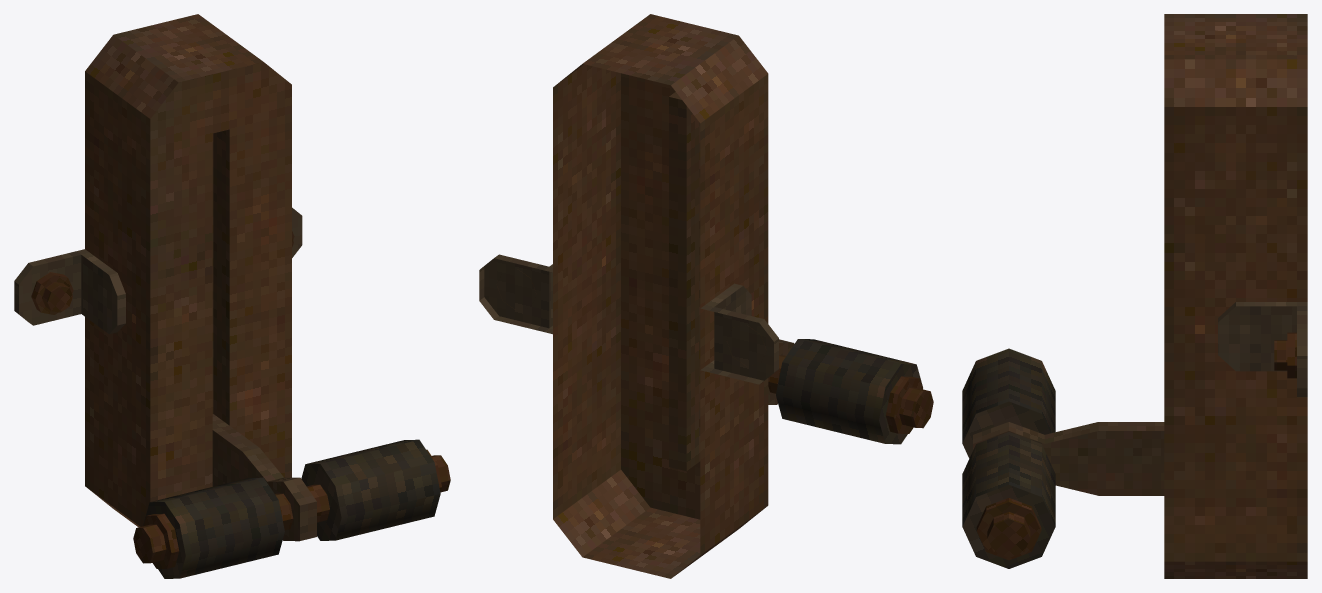
File: lever_etx_5.glb
3 views of the same model, side by side, from view 1: azimuth 30°, elevation 25°; view 2: azimuth 150°, elevation 25°; view 3: azimuth 270°, elevation 25° (orthographic). The views are drawn at different scales.
Parts seen in each view (by area): view 1: lever_etx_5, lever_etx_5_child; view 2: lever_etx_5, lever_etx_5_child; view 3: lever_etx_5, lever_etx_5_child.
Boxes of the visible parts, x1,y1,x2,y2 form: lever_etx_5: (14,14,302,527); lever_etx_5_child: (133,414,450,578); lever_etx_5: (479,14,778,578); lever_etx_5_child: (768,339,933,444); lever_etx_5: (1164,14,1307,578); lever_etx_5_child: (962,348,1164,568).
Size of the model in its own units: 0.1894 by 0.288 by 0.1734.
Materials: 1 (1 with a texture image).
